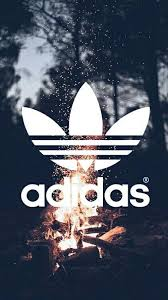adidas: (16, 80, 155, 210)
